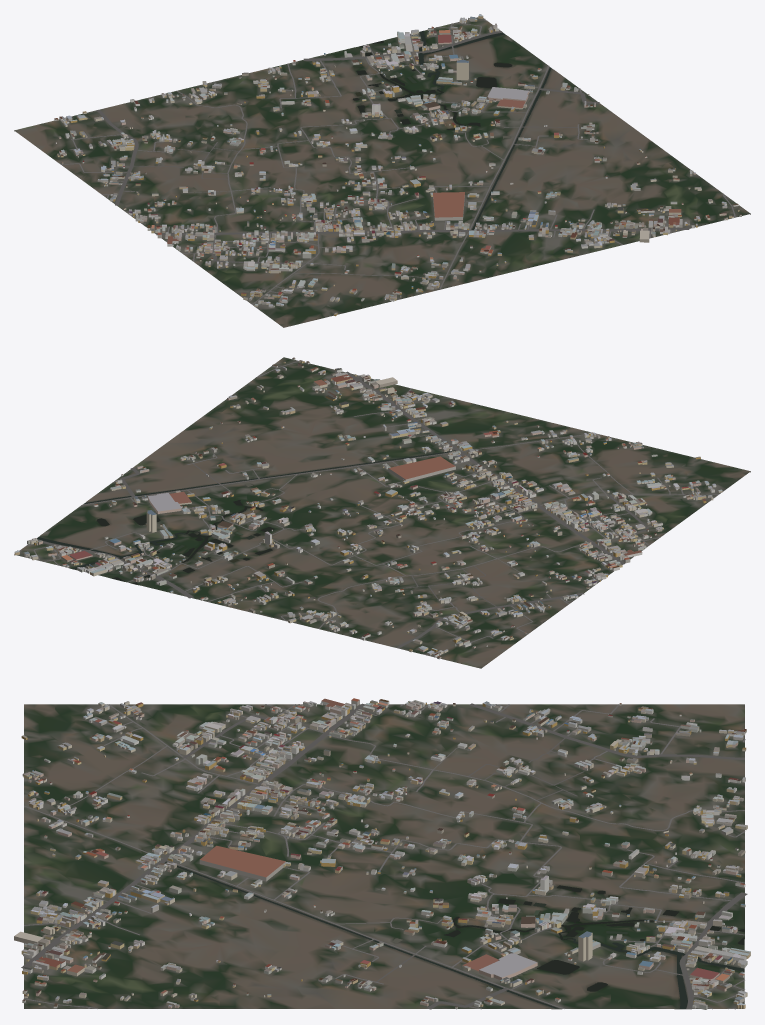
The picture shows the model from 3 angles, top to bottom: view 1: azimuth 30°, elevation 25°; view 2: azimuth 150°, elevation 25°; view 3: azimuth 270°, elevation 25°; orthographic projection. The views are drawn at different scales.
Parts seen in each view (by area): view 1: ground, buildings, roads, water; view 2: ground, buildings, roads, water; view 3: ground, buildings, roads, water.
Part boxes in pixels (x1=…): ground: x1=14, y1=17, x2=750, y2=327; buildings: x1=54, y1=14, x2=741, y2=316; roads: x1=61, y1=19, x2=735, y2=304; water: x1=353, y1=30, x2=551, y2=229; ground: x1=14, y1=357, x2=750, y2=668; buildings: x1=14, y1=357, x2=722, y2=659; roads: x1=19, y1=361, x2=719, y2=655; water: x1=37, y1=450, x2=455, y2=584; ground: x1=24, y1=704, x2=744, y2=1009; buildings: x1=14, y1=698, x2=750, y2=1009; roads: x1=21, y1=703, x2=747, y2=1009; water: x1=165, y1=861, x2=744, y2=1008.
Bounding box in the file's own units: 1417 × 53.91 × 1432.
